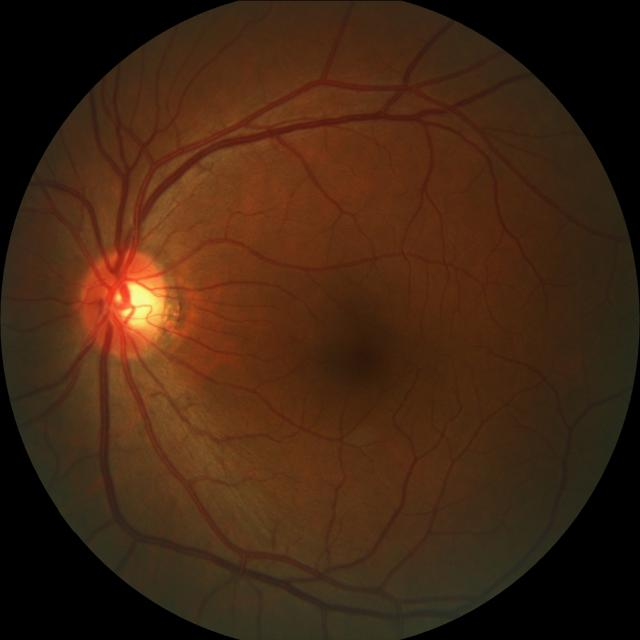OC: (104, 276, 161, 331)
OD: (78, 247, 170, 356)
